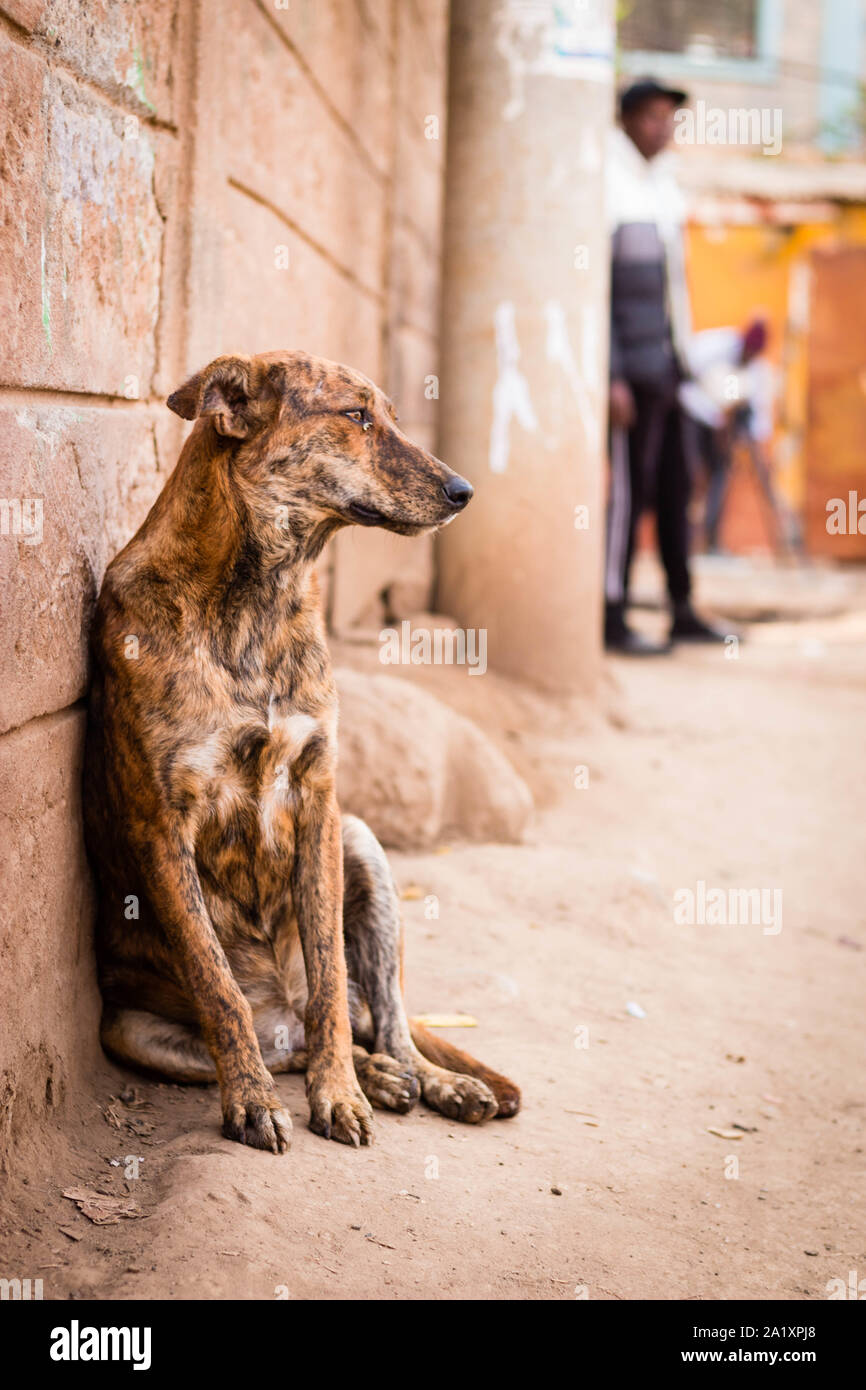Dog: (57, 339, 549, 1168)
